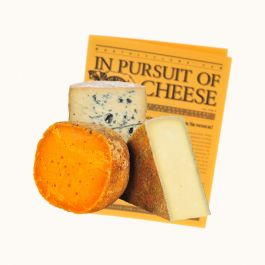cheese: (116, 104, 207, 225), (31, 119, 134, 217), (65, 79, 146, 151)
